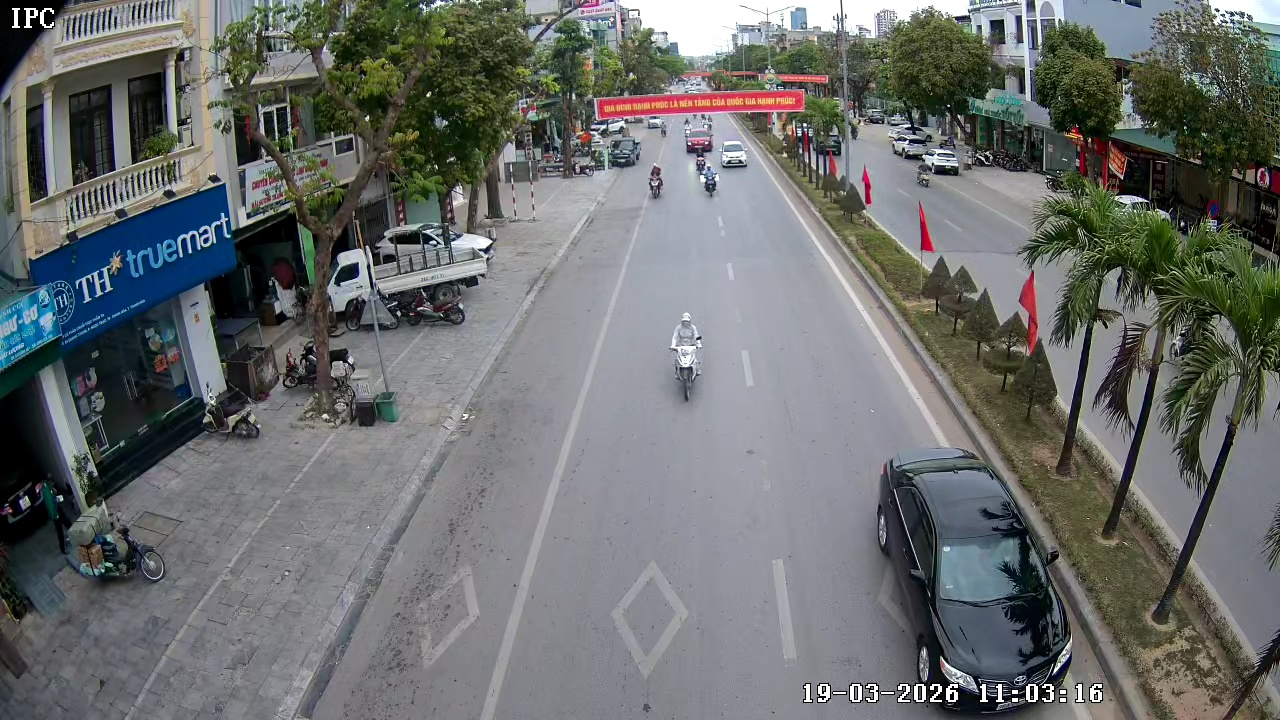car: (874, 446, 1080, 712), (685, 120, 714, 156), (718, 140, 750, 170)
motorbike: (69, 501, 168, 585), (665, 310, 707, 403), (700, 154, 718, 198), (647, 162, 666, 200)
truck: (608, 131, 641, 167)
